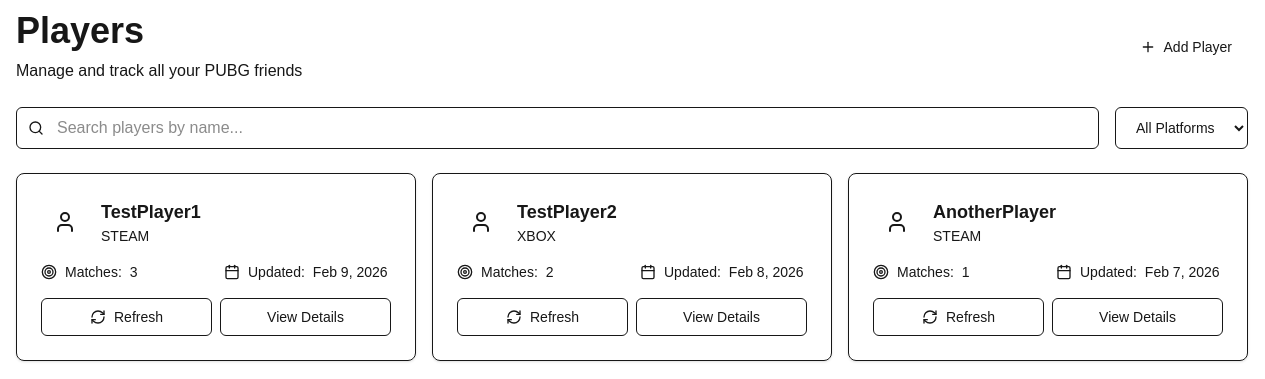
Test: Players Page Integration Tests › filters players by shard
Expected: the heading "TestPlayer1" is shown, [101,198,201,226]
Select "Xbox" in the dropdown at (1182, 128), box [1115,107,1248,149]
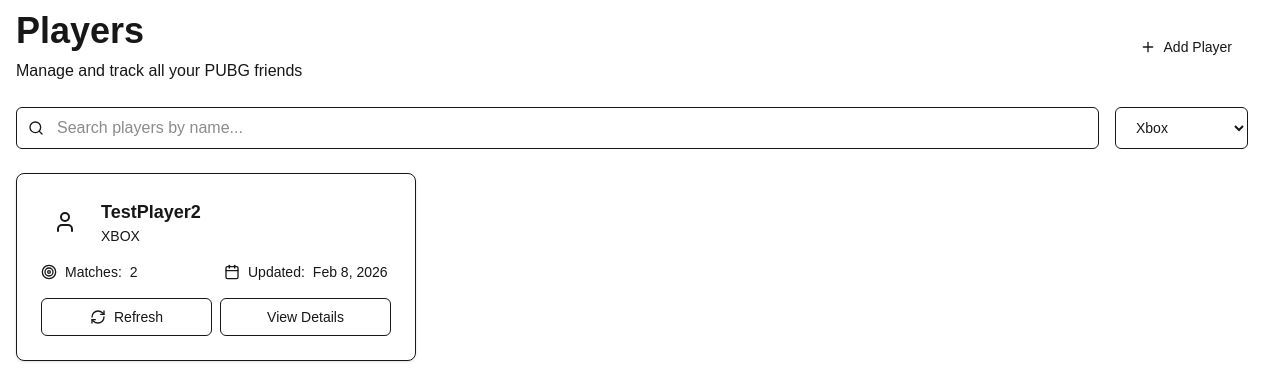
Expected: the heading "TestPlayer2" is shown, [101,198,201,226]
Expected: the heading "TestPlayer1" is gone
Expected: the heading "AnotherPlayer" is gone
